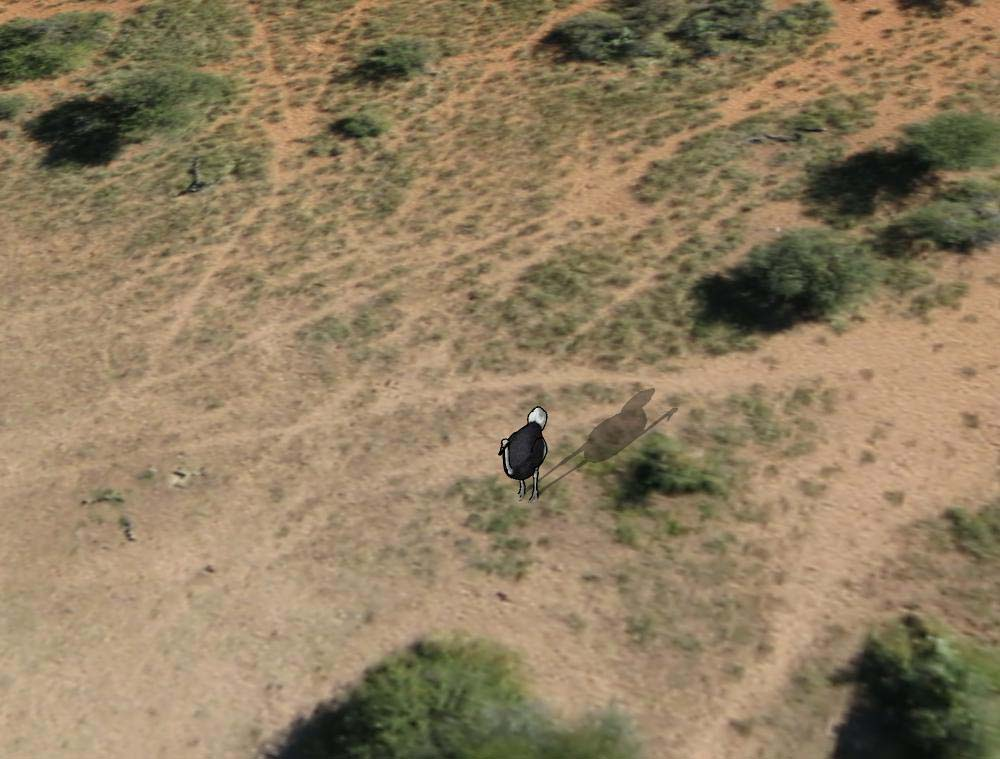ostrich: (495, 403, 559, 500)
